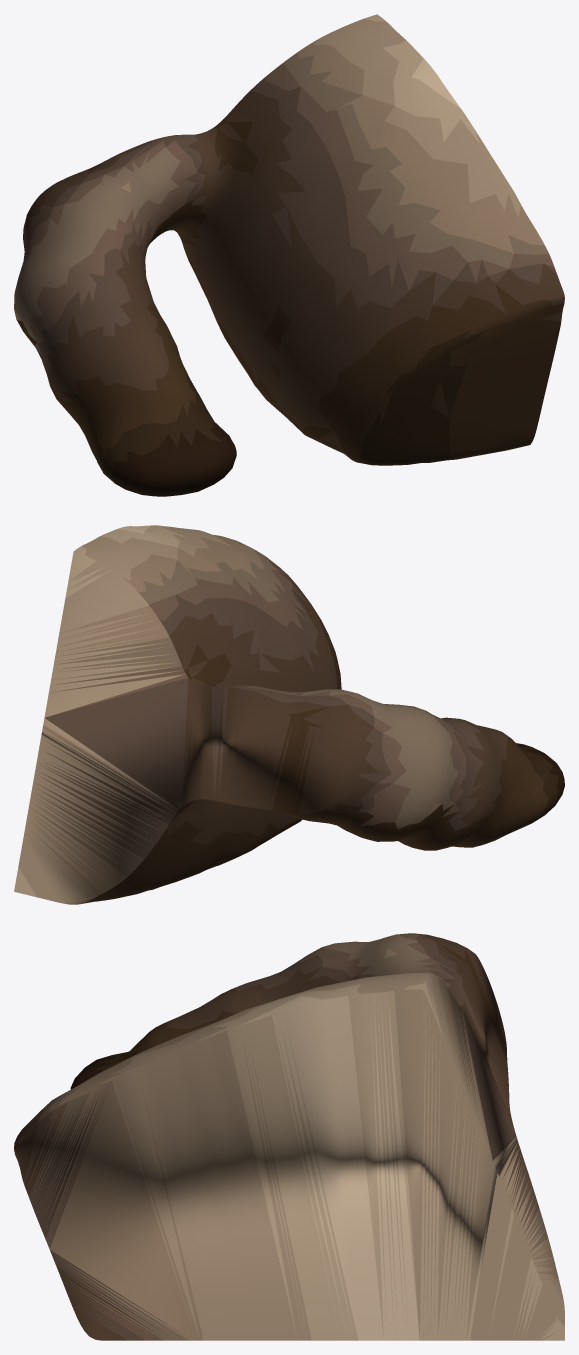
Rendered from tan_dome_bl.glb.
3 views of the same model, one above another, from view 1: azimuth 30°, elevation 25°; view 2: azimuth 150°, elevation 25°; view 3: azimuth 270°, elevation 25° (orthographic). The views are drawn at different scales.
Parts seen in each view (by area): view 1: tan_dome_bl; view 2: tan_dome_bl; view 3: tan_dome_bl.
Part boxes in pixels (x1,y1,x2,y2): tan_dome_bl: (14,14,564,496); tan_dome_bl: (14,525,564,904); tan_dome_bl: (14,933,564,1340).
Size of the model in its own units: 20.78 by 16.17 by 22.96.
